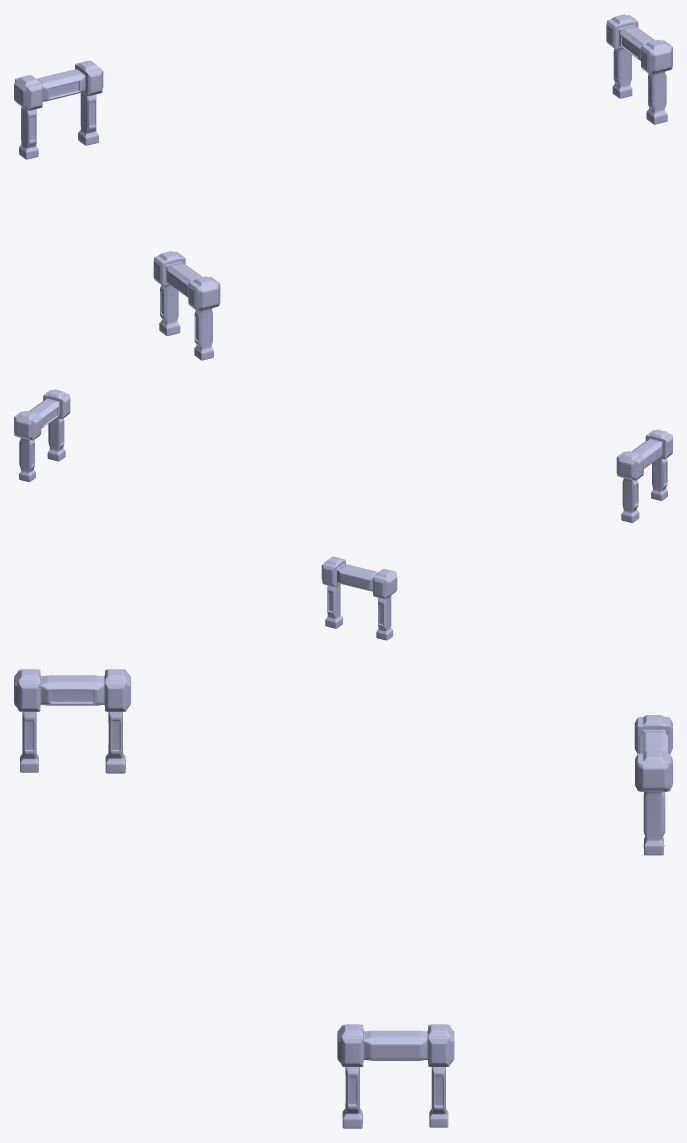
Rendered from ENTRANCE.fbx.
The picture shows the model from 3 angles, top to bottom: view 1: azimuth 30°, elevation 25°; view 2: azimuth 150°, elevation 25°; view 3: azimuth 270°, elevation 25°; orthographic projection. The views are drawn at different scales.
Parts seen in each view (by area): view 1: polySurface3; view 2: polySurface3; view 3: polySurface3.
Part boxes in pixels (bbox=[...]): polySurface3: bbox=[14, 14, 672, 360]; polySurface3: bbox=[14, 389, 672, 640]; polySurface3: bbox=[14, 669, 672, 1128].
Bounding box in the file's own units: 8.15 × 0.9974 × 6.12.
